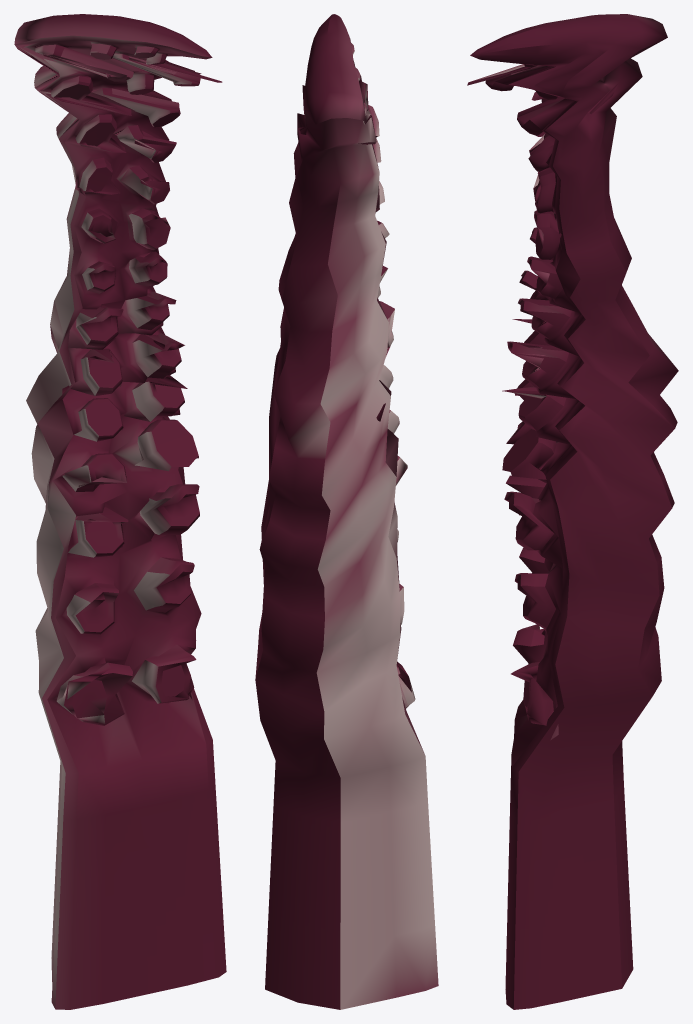
The model's file is Kraken_Tentacle.glb.
3 renders of one model, left to right at view 1: azimuth 30°, elevation 25°; view 2: azimuth 150°, elevation 25°; view 3: azimuth 270°, elevation 25°, orthographic.
Visible parts, largest first — view 1: Kraken_Tentacle; view 2: Kraken_Tentacle; view 3: Kraken_Tentacle.
Boxes of the visible parts, left/top/right/bottom form: Kraken_Tentacle: left=14, top=14, right=226, bottom=1009; Kraken_Tentacle: left=255, top=14, right=438, bottom=1009; Kraken_Tentacle: left=467, top=14, right=678, bottom=1009.
Bounding box in the file's own units: 0.183 × 1 × 0.2016.
